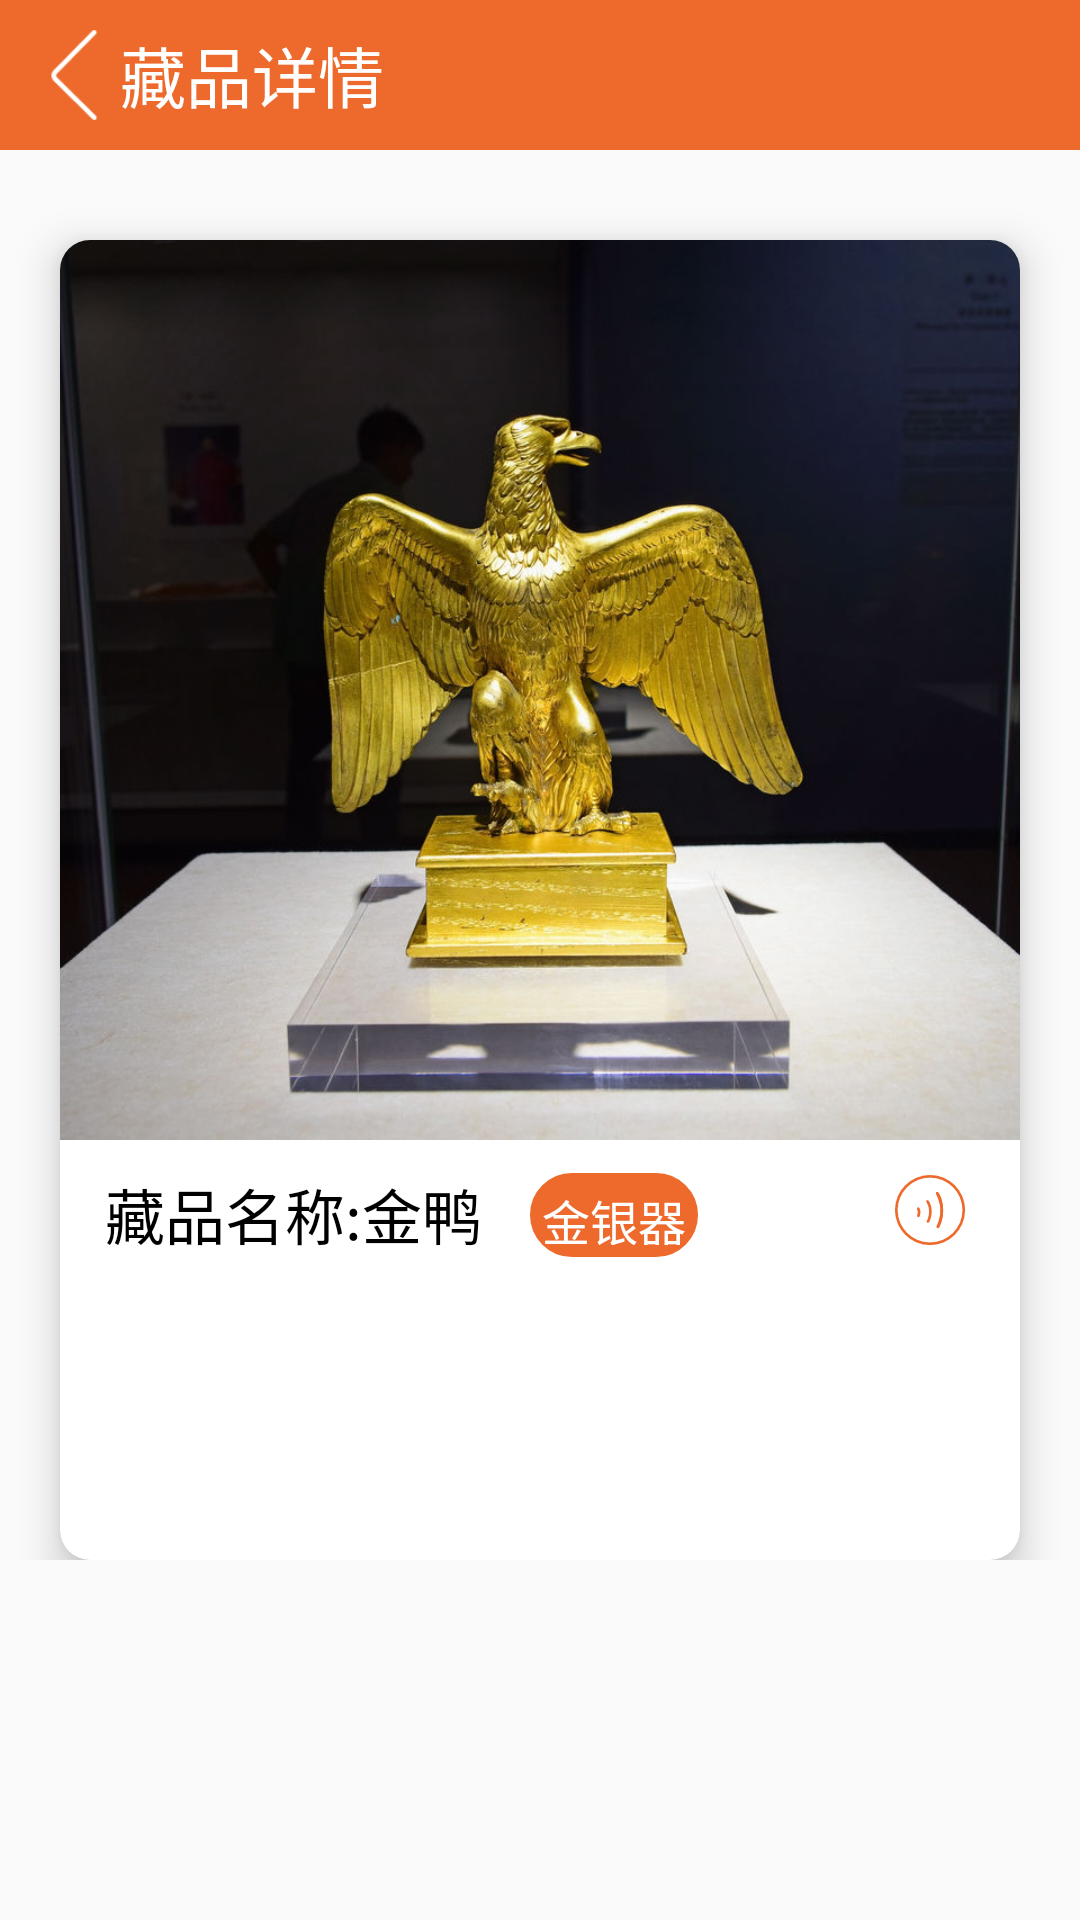

Icons on this 1080×1920 Android screen, each with the point to tap as [x,y]:
voice: [930,1210]
